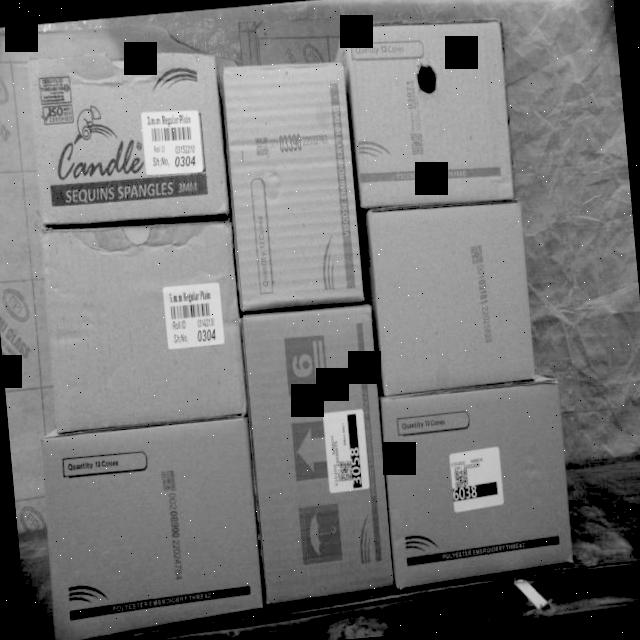box: (41, 417, 267, 640), (38, 213, 247, 428), (243, 302, 393, 600), (380, 387, 576, 591), (27, 45, 227, 226), (225, 53, 362, 310), (343, 12, 514, 210), (368, 198, 536, 388)
